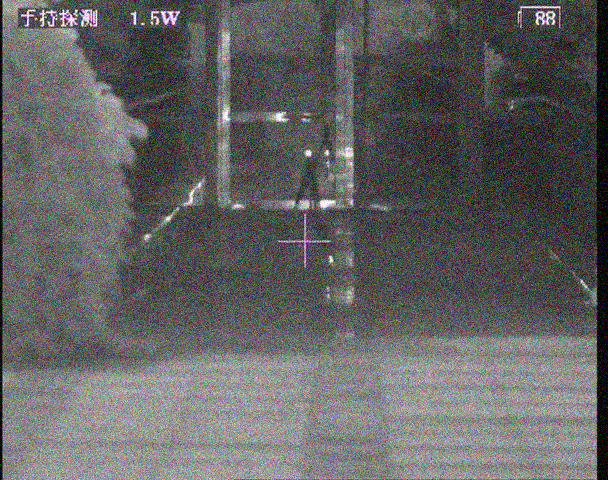my: (303, 148, 313, 158)
